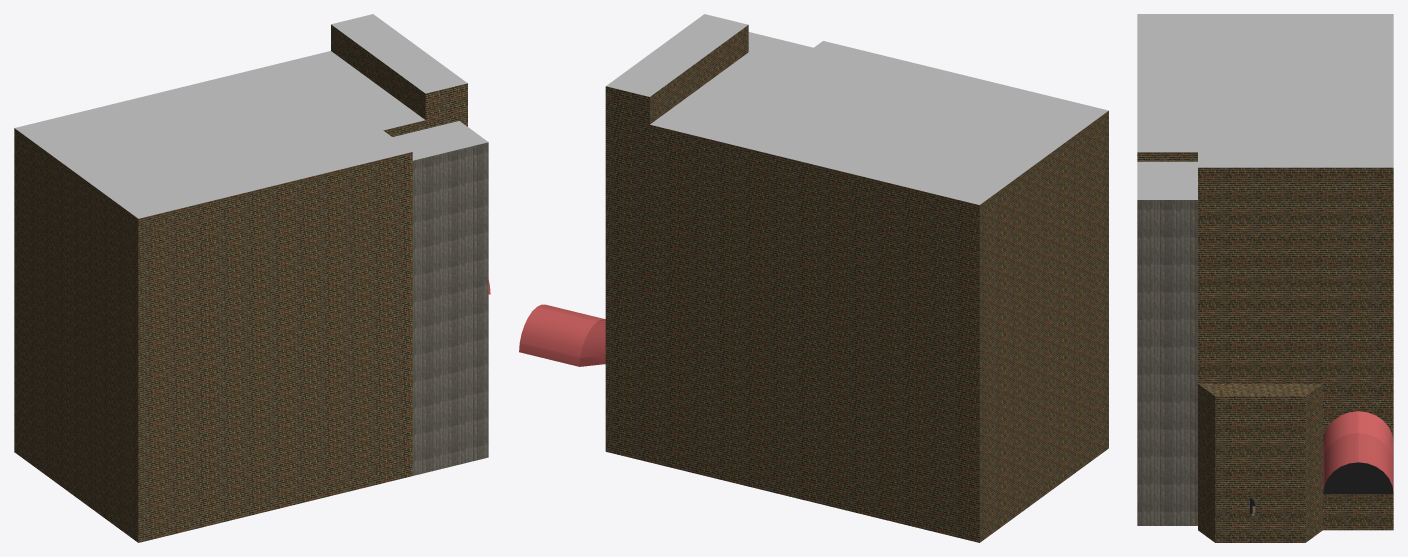
File: 21AugustaSt.dae
The picture shows the model from 3 angles, left to right: view 1: azimuth 30°, elevation 25°; view 2: azimuth 150°, elevation 25°; view 3: azimuth 270°, elevation 25°; orthographic projection. The views are drawn at different scales.
Parts seen in each view (by area): view 1: SketchUp (×5); view 2: SketchUp (×5); view 3: SketchUp (×8).
Part boxes in pixels (<box>): SketchUp (×5): <box>14,14,488,542</box>; SketchUp (×5): <box>519,14,1108,542</box>; SketchUp (×8): <box>1137,14,1393,542</box>.
Bounding box in the file's own units: 627 × 305 × 476.
Materials: 12 (2 with a texture image).
